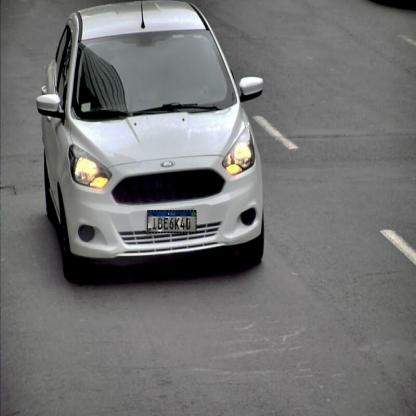PlacaM: (147, 210, 197, 233)
